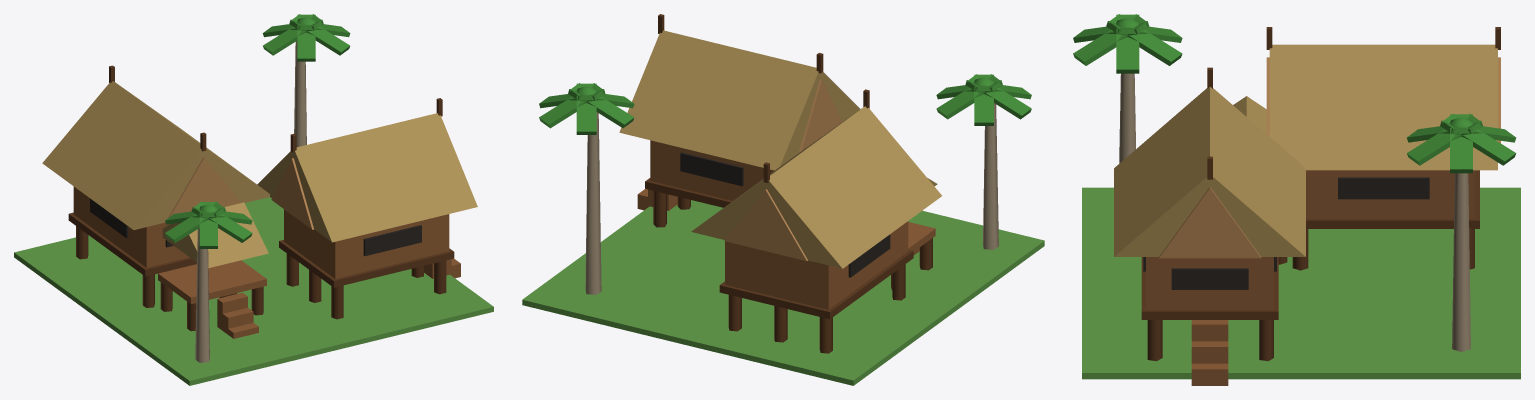
Rendered from zone_R_d2_e1.glb.
3 renders of one model, left to right at view 1: azimuth 30°, elevation 25°; view 2: azimuth 150°, elevation 25°; view 3: azimuth 270°, elevation 25°, orthographic. The views are drawn at different scales.
Visible parts, largest first — view 1: zone_R_d2_e1; view 2: zone_R_d2_e1; view 3: zone_R_d2_e1.
Boxes of the visible parts, <box> form: zone_R_d2_e1: <box>14,14,493,385</box>; zone_R_d2_e1: <box>522,14,1044,385</box>; zone_R_d2_e1: <box>1073,14,1520,385</box>.
Size of the model in its own units: 1 by 0.58 by 0.9799.
